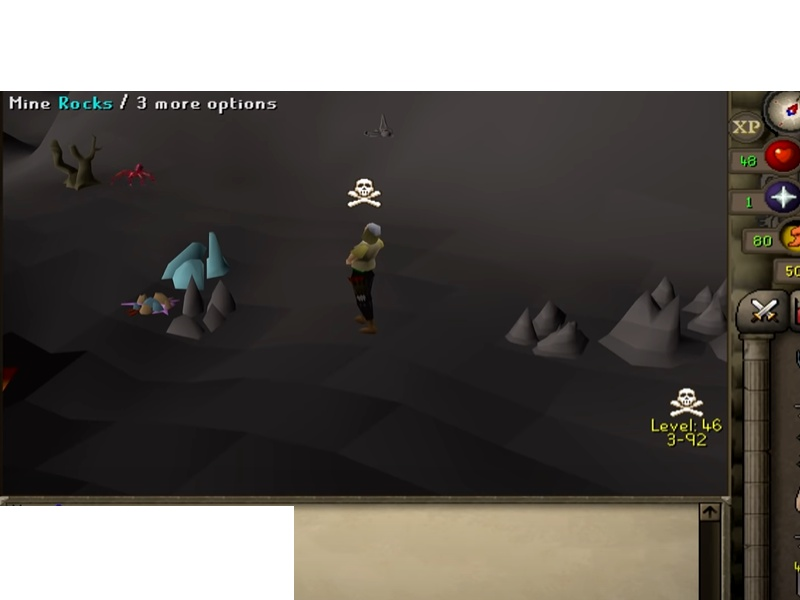rune: (159, 228, 233, 292)
